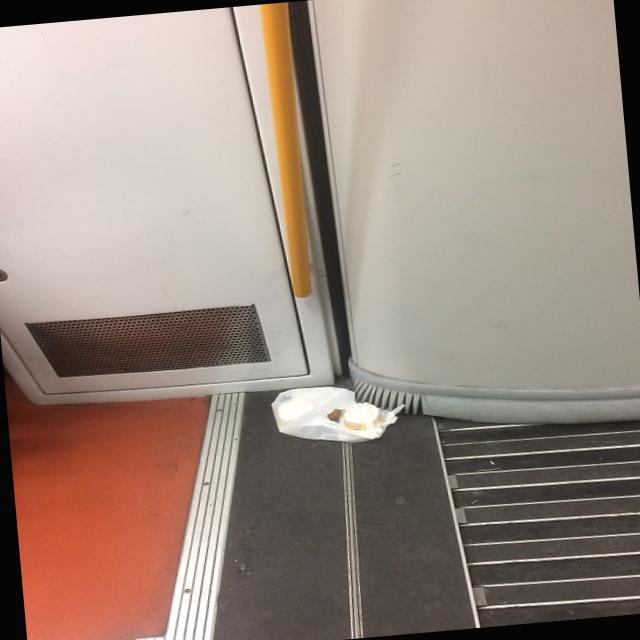Trash: (268, 372, 411, 452)
